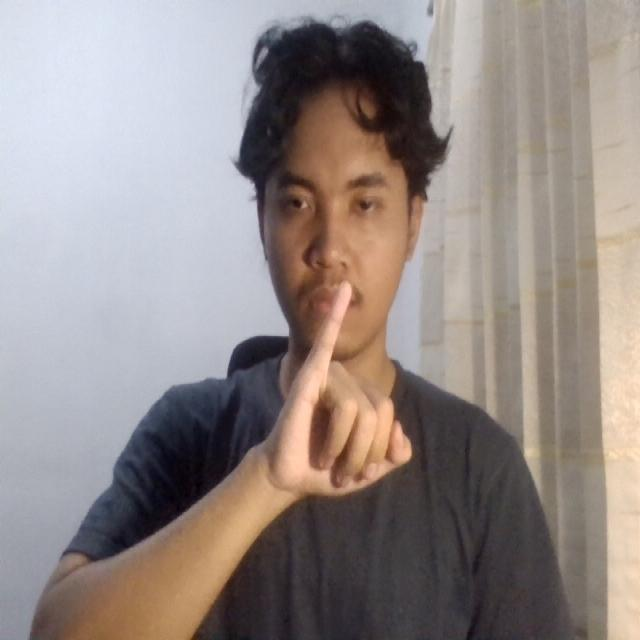Hello: (238, 267, 433, 528)
